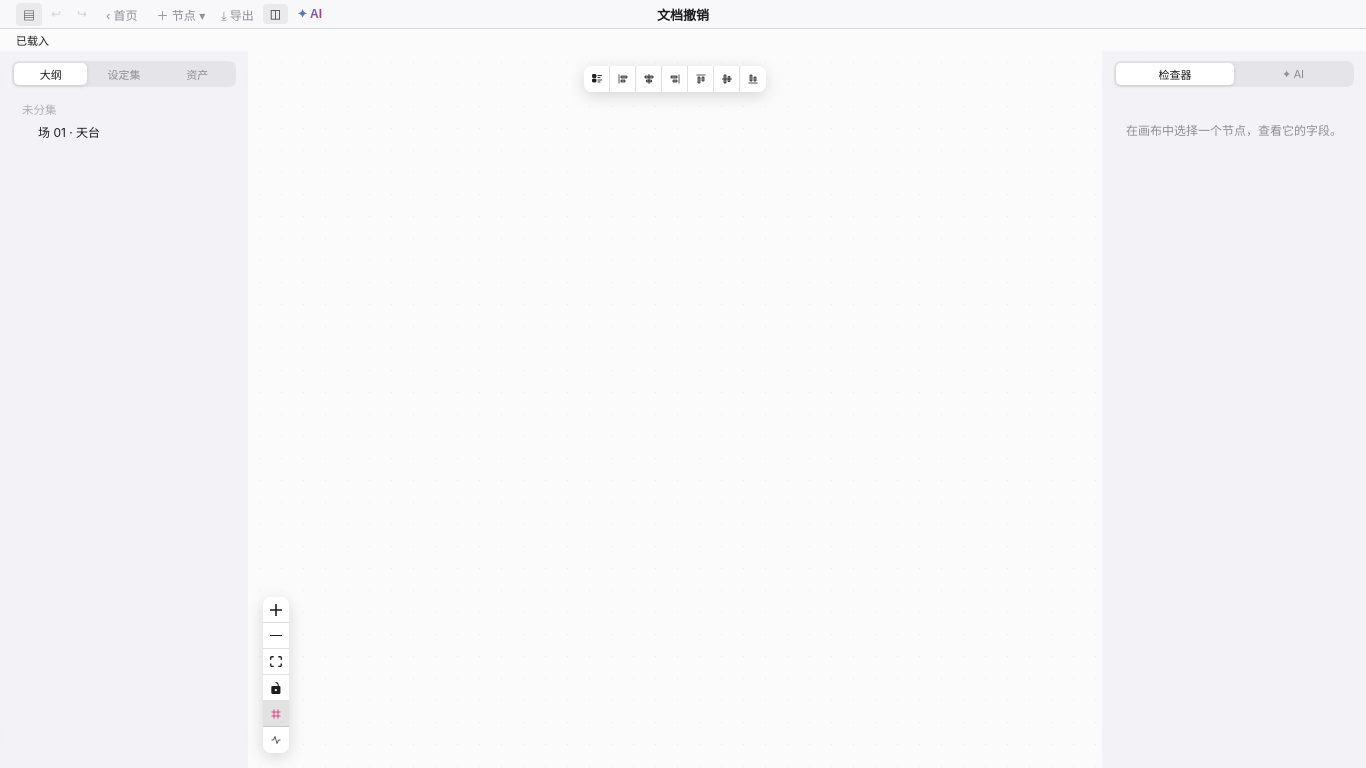
Test: 设定文档弹窗与全局撤销协调（issue #126 装配） › 弹窗打开时非输入焦点 ⌘Z 挂起不触达命令栈；关闭后撤销恢复
// 先入栈一条创建命令，使撤销可用（初始栈空）
Click the button with aria-label "新增节点" at (181, 14), box [150, 2, 212, 26]
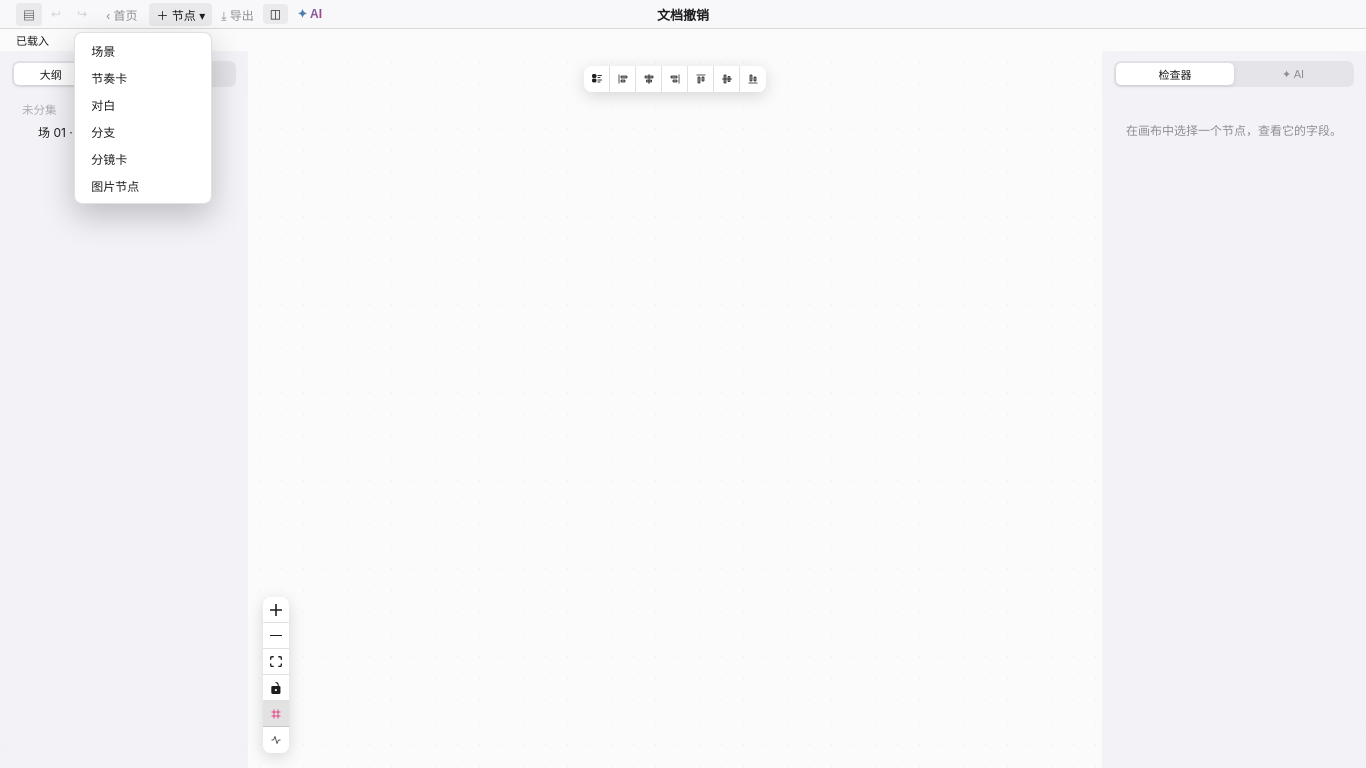
Click the menu item "场景" at (143, 50), box [79, 36, 207, 64]
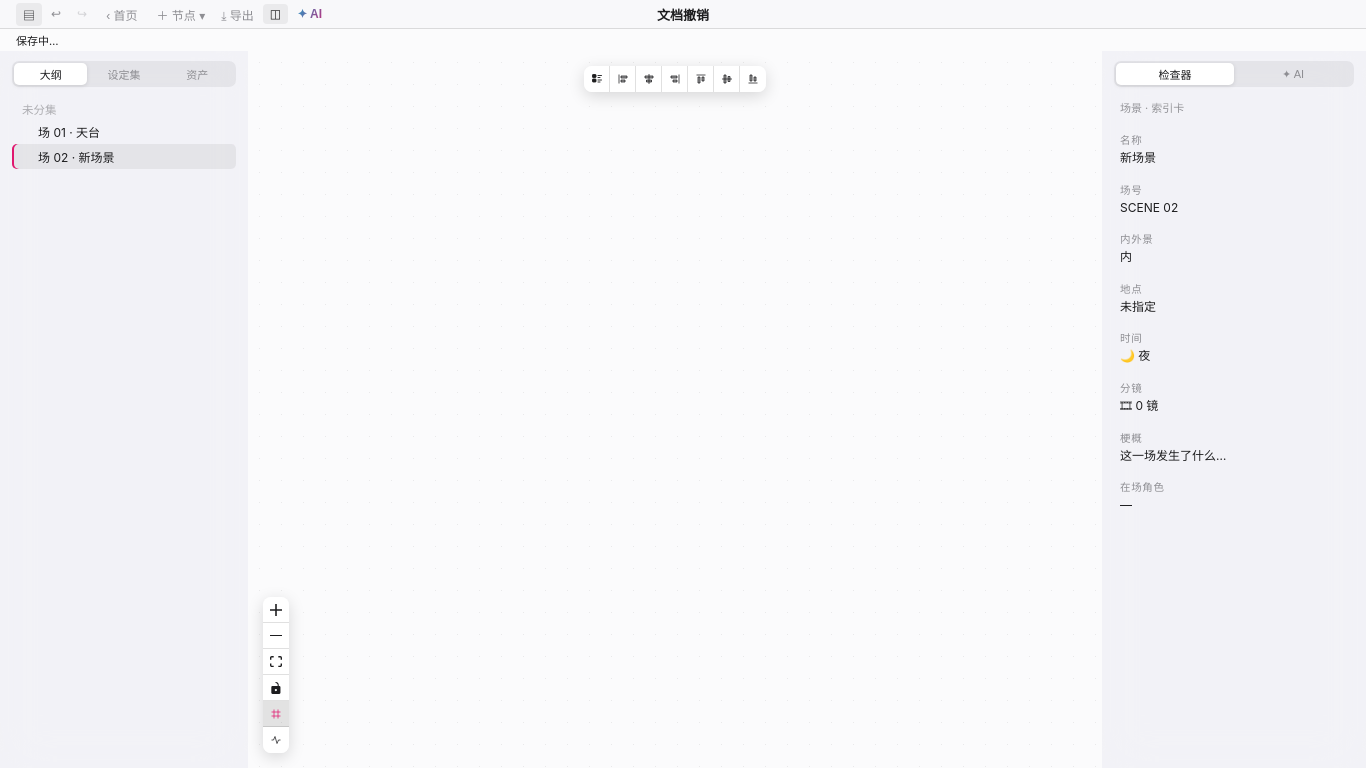
expect the button named "撤销" is enabled: met, box [44, 4, 68, 24]
// 打开文档编辑弹窗：非输入焦点 ⌘Z 应被模态会话挂起
Click the button "设定集" at (124, 74), box [87, 63, 161, 85]
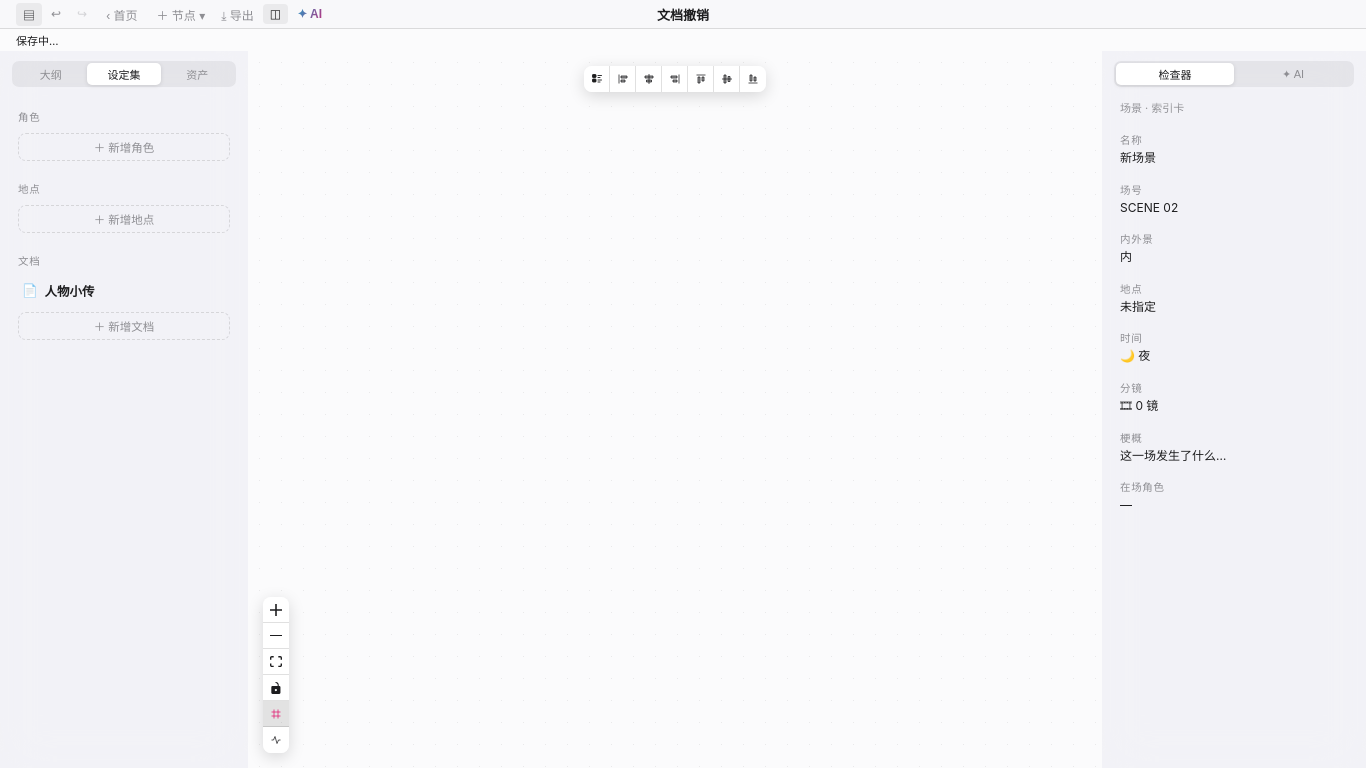
Click the button with aria-label "打开文档 人物小传" at (109, 290), box [18, 279, 200, 302]
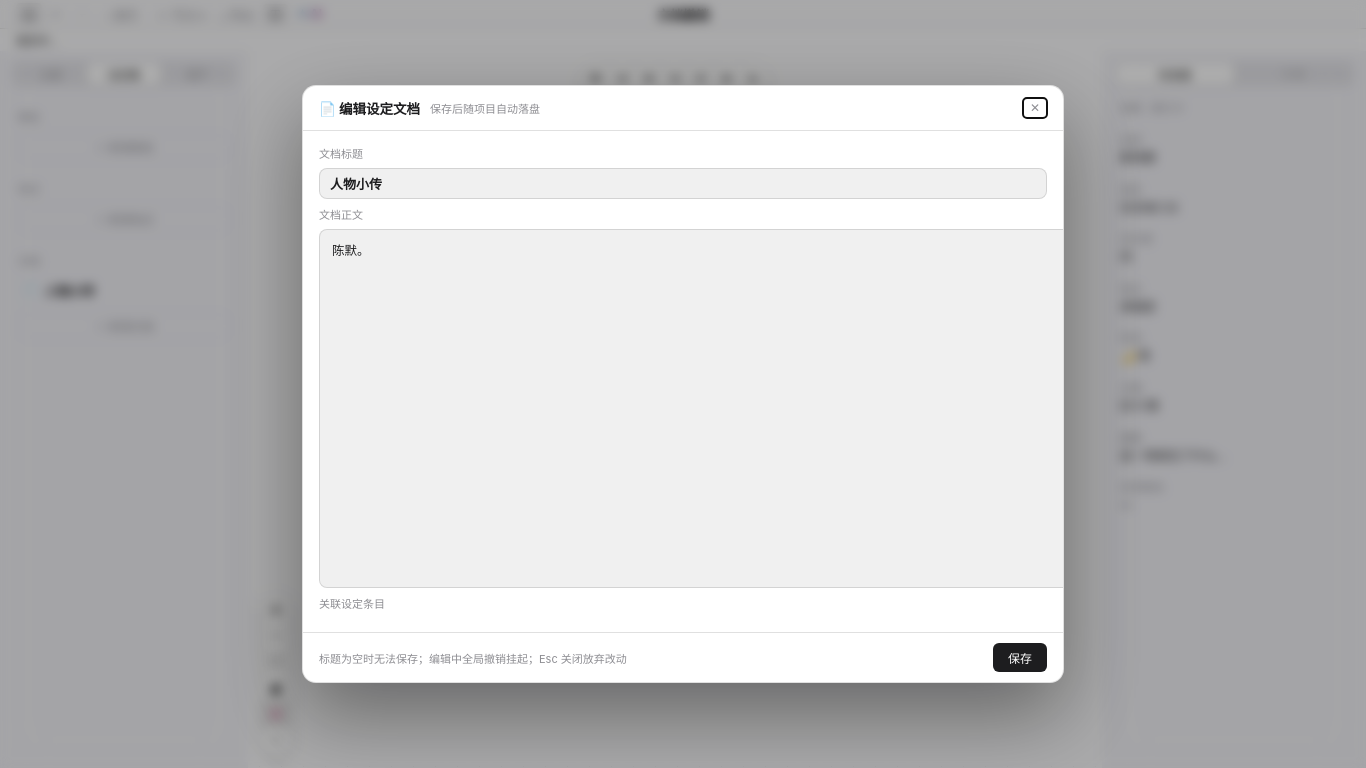
Press z
expect the text box showing "陈默。" is shown: met, box [319, 228, 1063, 588]
// 关闭弹窗后 ⌘Z 恢复：撤销移除新建节点，栈回到空
Press Escape in the dialog "编辑设定文档", box [302, 84, 1064, 683]
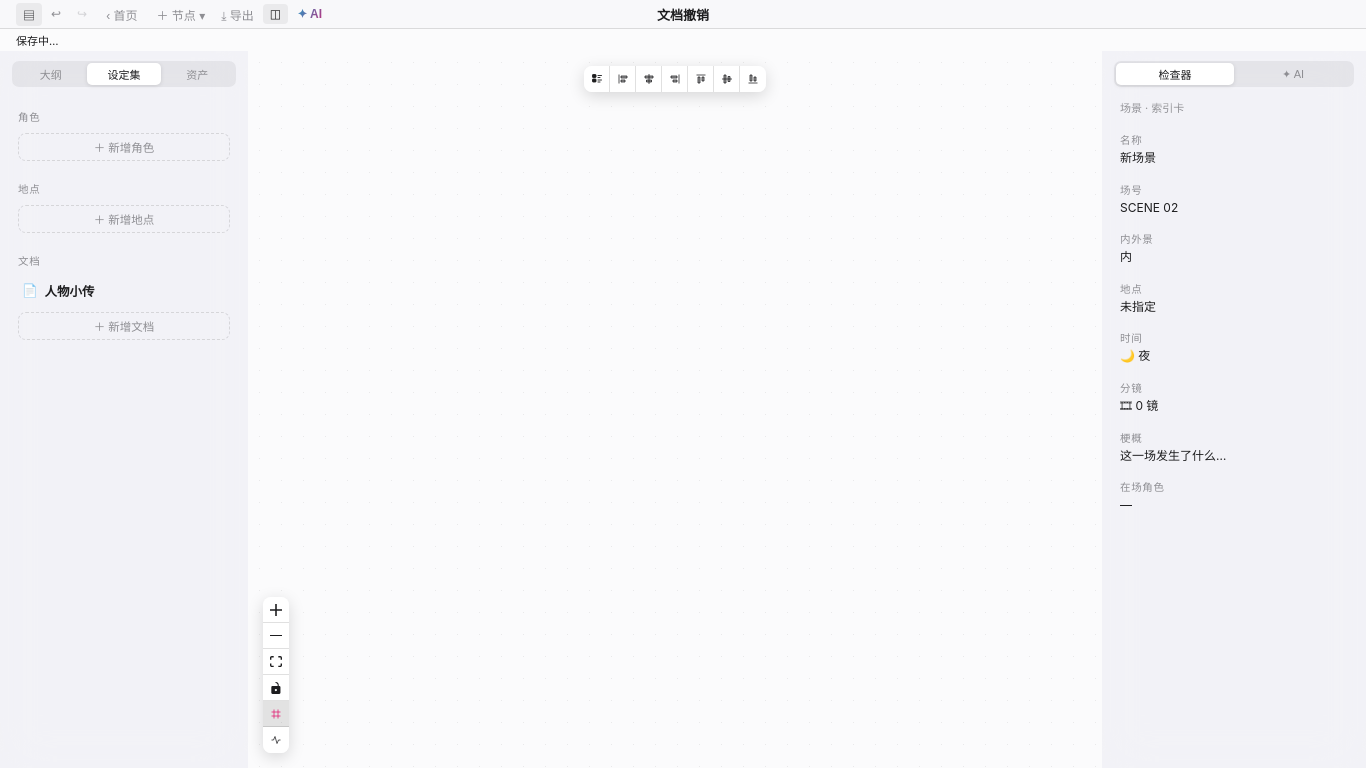
Press z
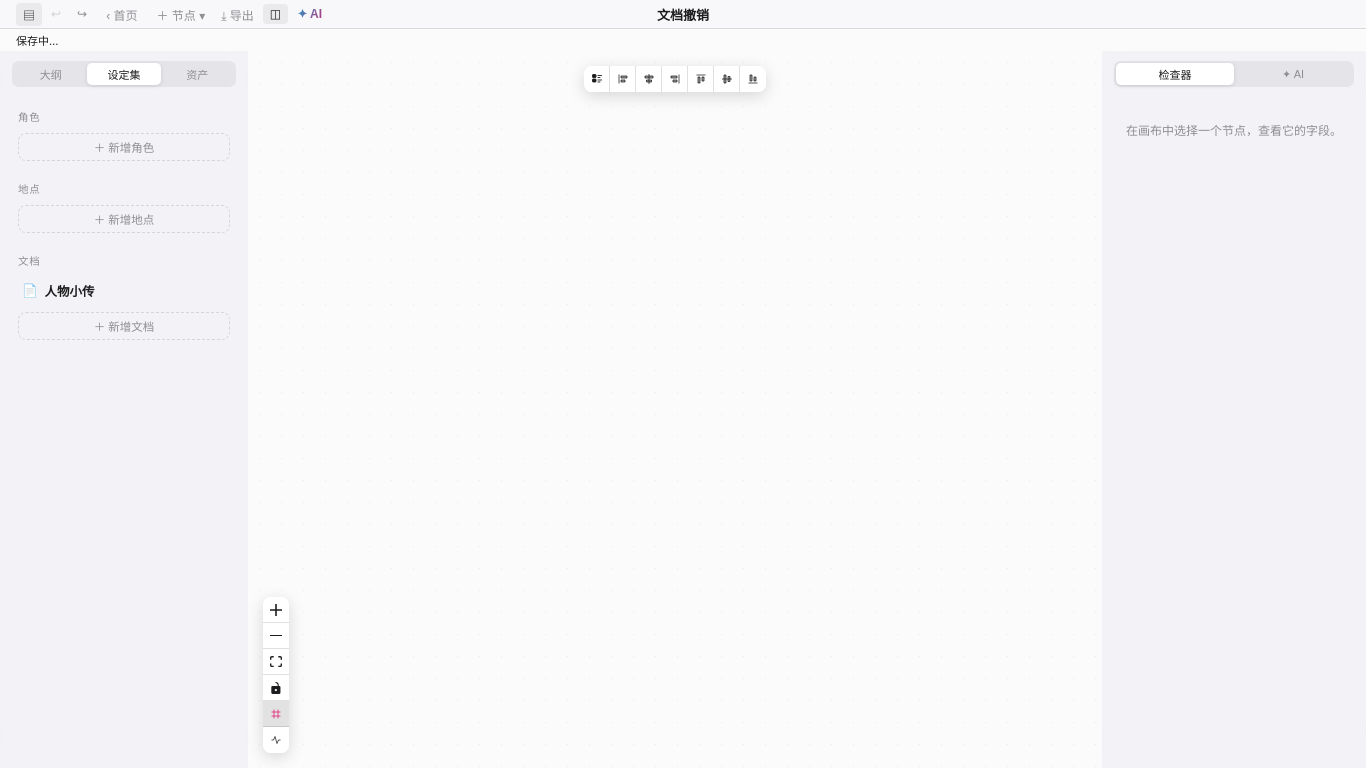
expect the button named "撤销" is disabled: met, box [44, 4, 68, 24]
